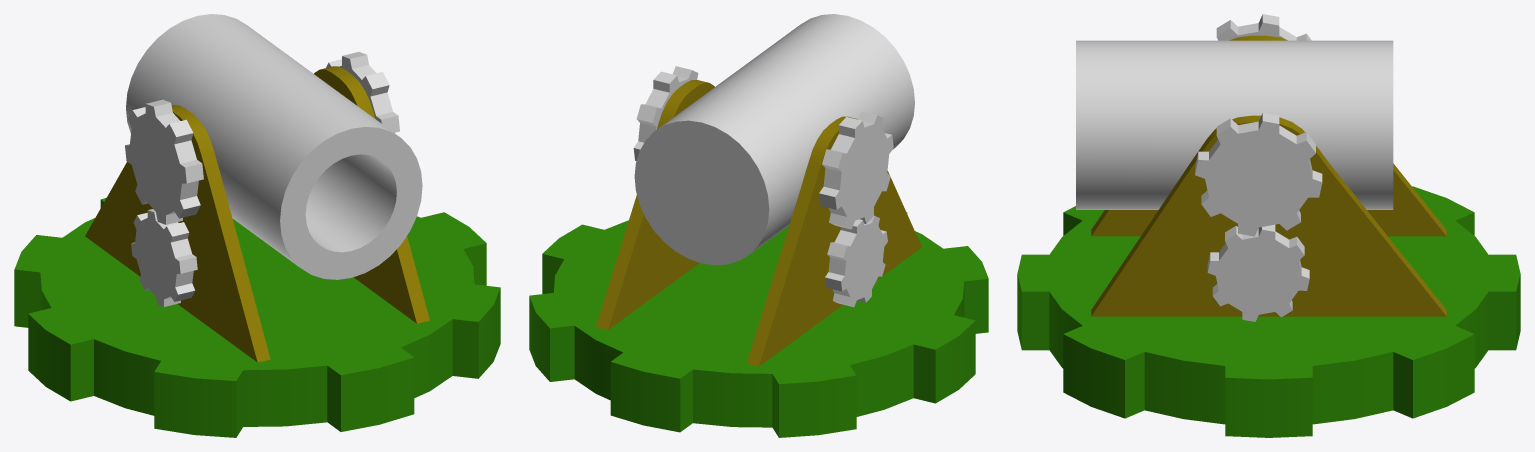
Rendered from kanon.fbx.
3 renders of one model, left to right at view 1: azimuth 30°, elevation 25°; view 2: azimuth 150°, elevation 25°; view 3: azimuth 270°, elevation 25°, orthographic. The views are drawn at different scales.
Visible parts, largest first — view 1: Cannon-Base, Cannon, Cannon-Gears; view 2: Cannon-Base, Cannon, Cannon-Gears; view 3: Cannon-Base, Cannon, Cannon-Gears.
Boxes of the visible parts, x1,y1,x2,y2 form: Cannon-Base: (14, 66, 500, 437); Cannon: (125, 14, 422, 279); Cannon-Gears: (131, 209, 197, 306); Cannon-Base: (529, 80, 988, 437); Cannon: (633, 14, 914, 265); Cannon-Gears: (825, 215, 887, 307); Cannon-Base: (1017, 35, 1520, 437); Cannon: (1076, 14, 1393, 236); Cannon-Gears: (1207, 224, 1309, 321).
Bounding box in the file's own units: 46.77 × 29.05 × 46.77.
